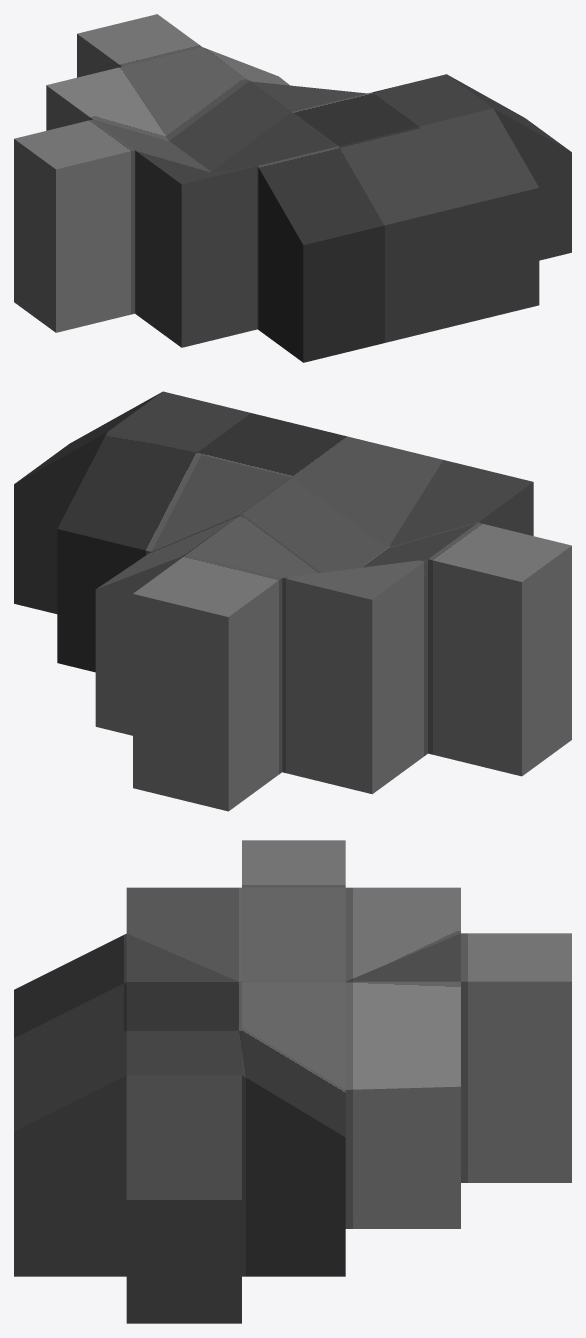
Rendered from garbage_415x22.gltf.
3 views of the same model, one above another, from view 1: azimuth 30°, elevation 25°; view 2: azimuth 150°, elevation 25°; view 3: azimuth 270°, elevation 25° (orthographic). The views are drawn at different scales.
Visible parts, largest first — view 1: garbage_415x22; view 2: garbage_415x22; view 3: garbage_415x22.
Part boxes in pixels (x1=…): garbage_415x22: x1=14, y1=14, x2=571, y2=362; garbage_415x22: x1=14, y1=391, x2=571, y2=811; garbage_415x22: x1=14, y1=840, x2=571, y2=1323.
Bounding box in the file's own units: 0.3698 × 0.1231 × 0.3092.
1 material, 1 textured.
